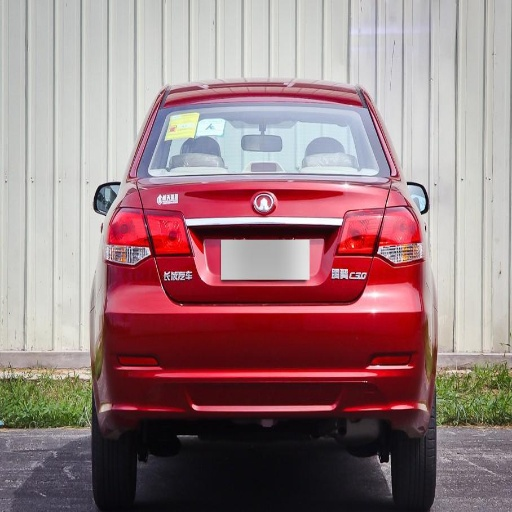back_bumper: (95, 256, 435, 431)
tailgate: (136, 172, 365, 303)
trunk: (144, 176, 390, 289)
